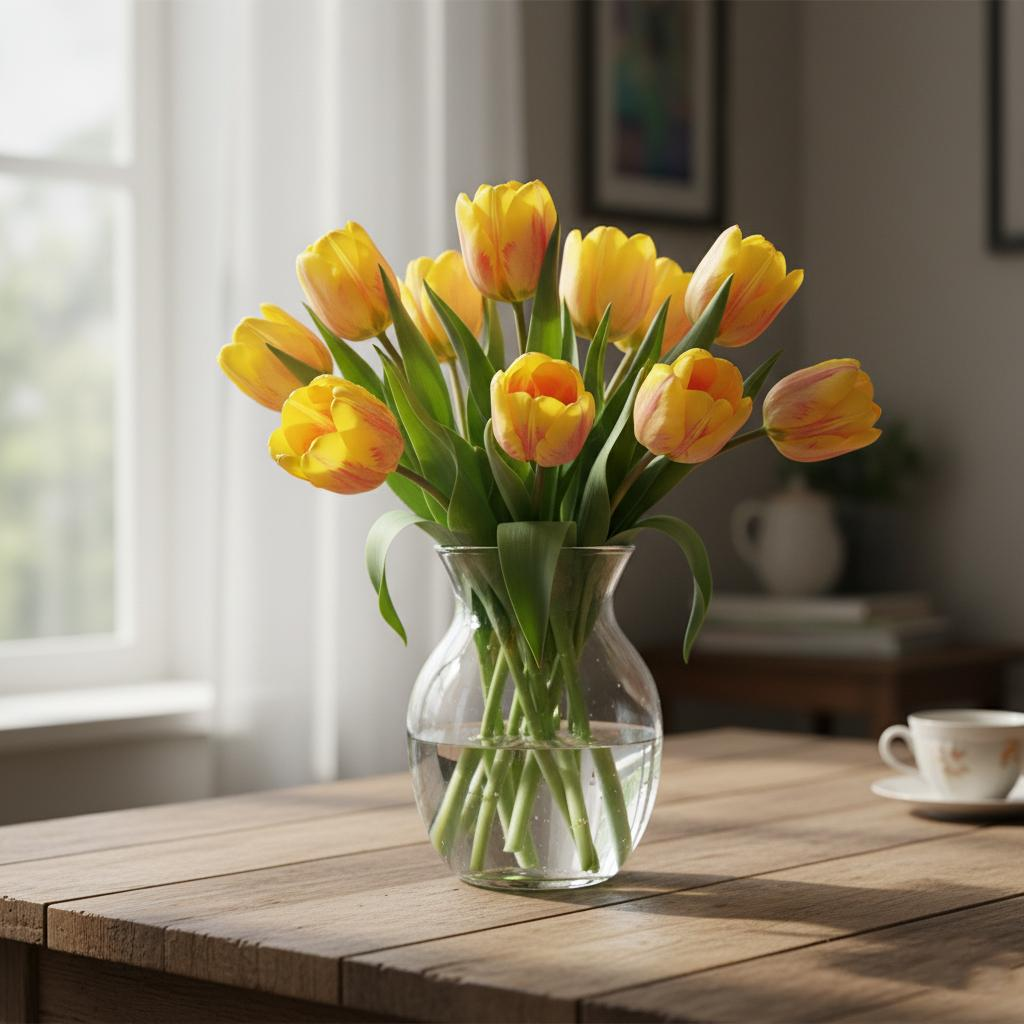tulip: (206, 164, 894, 536)
